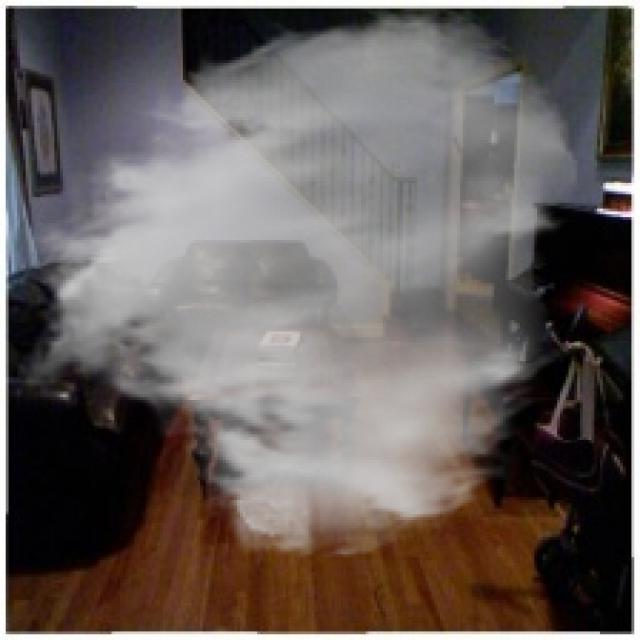Smoke: (14, 0, 583, 563)
